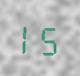five: (39, 19, 58, 56)
one: (19, 18, 38, 55)
